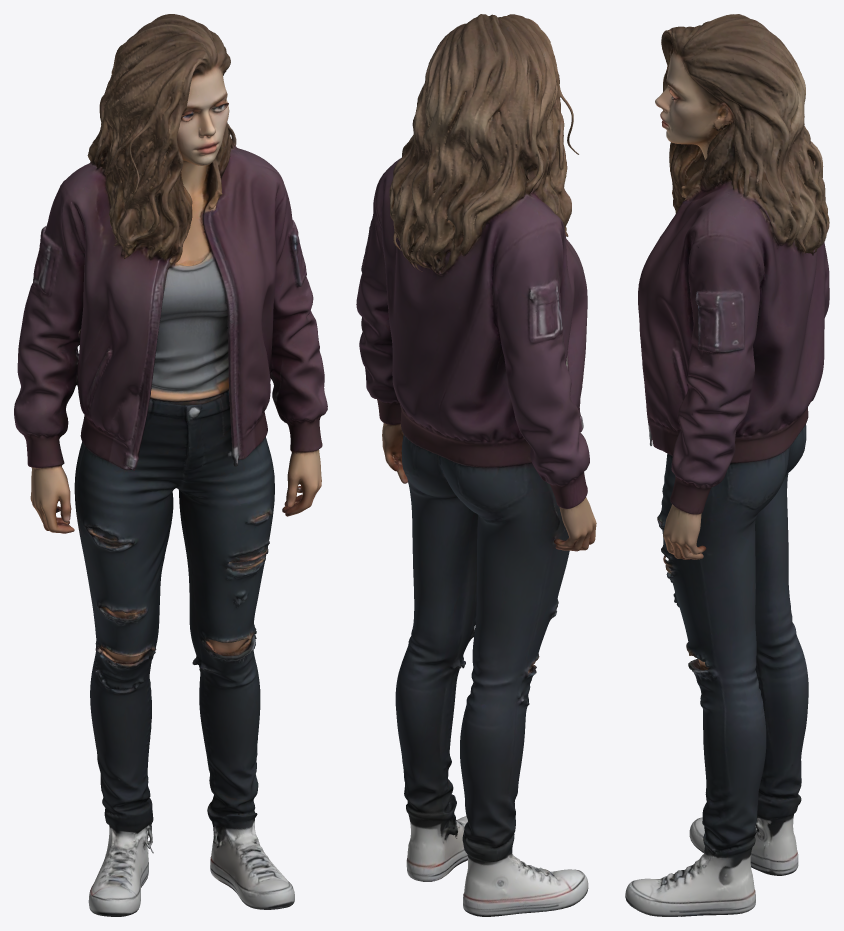
File: Alex-debout-compressed.glb
3 renders of one model, left to right at view 1: azimuth 30°, elevation 25°; view 2: azimuth 150°, elevation 25°; view 3: azimuth 270°, elevation 25°, orthographic.
Size of the model in its own units: 0.5956 by 1.9 by 0.4083.
1 material, 1 textured.
